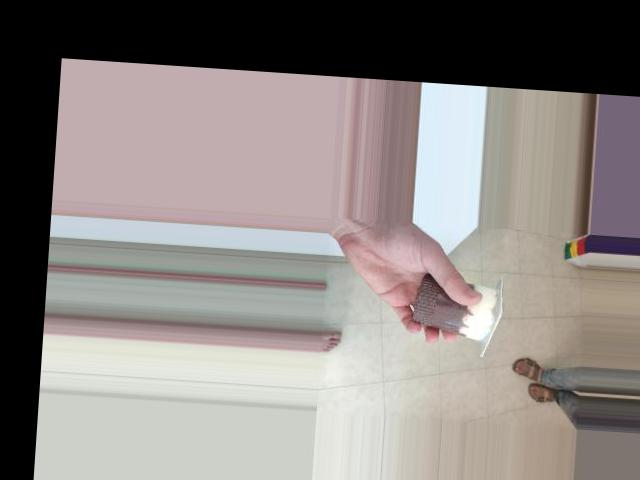milky: (395, 270, 513, 349)
